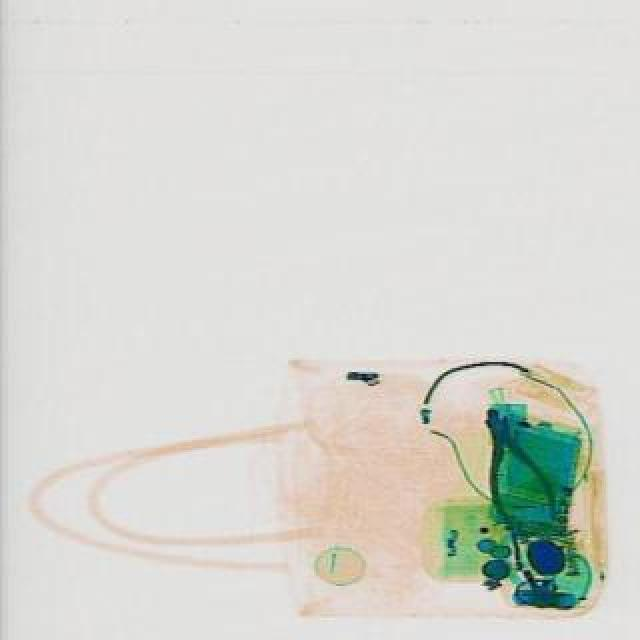wrench: (458, 400, 562, 536)
